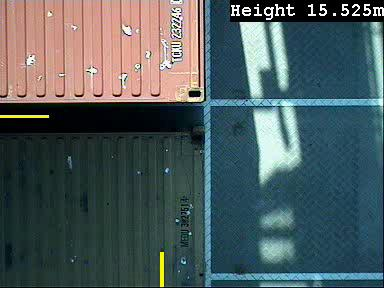groundmarker_2: (201, 74, 243, 139), (202, 256, 239, 288)
